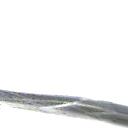crackTip: (1, 86, 128, 126)
